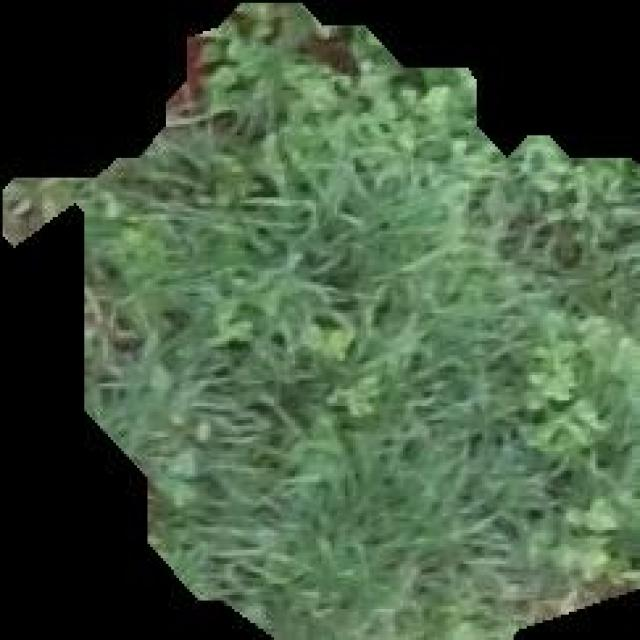Weed: (2, 2, 640, 640)
